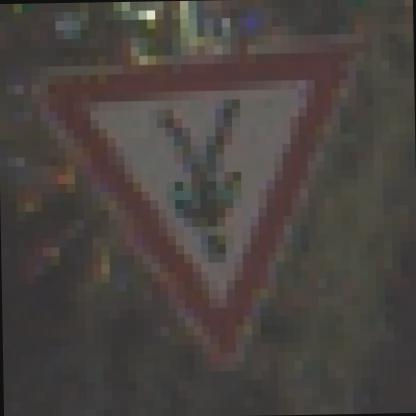crosswalk: (40, 50, 390, 378)
